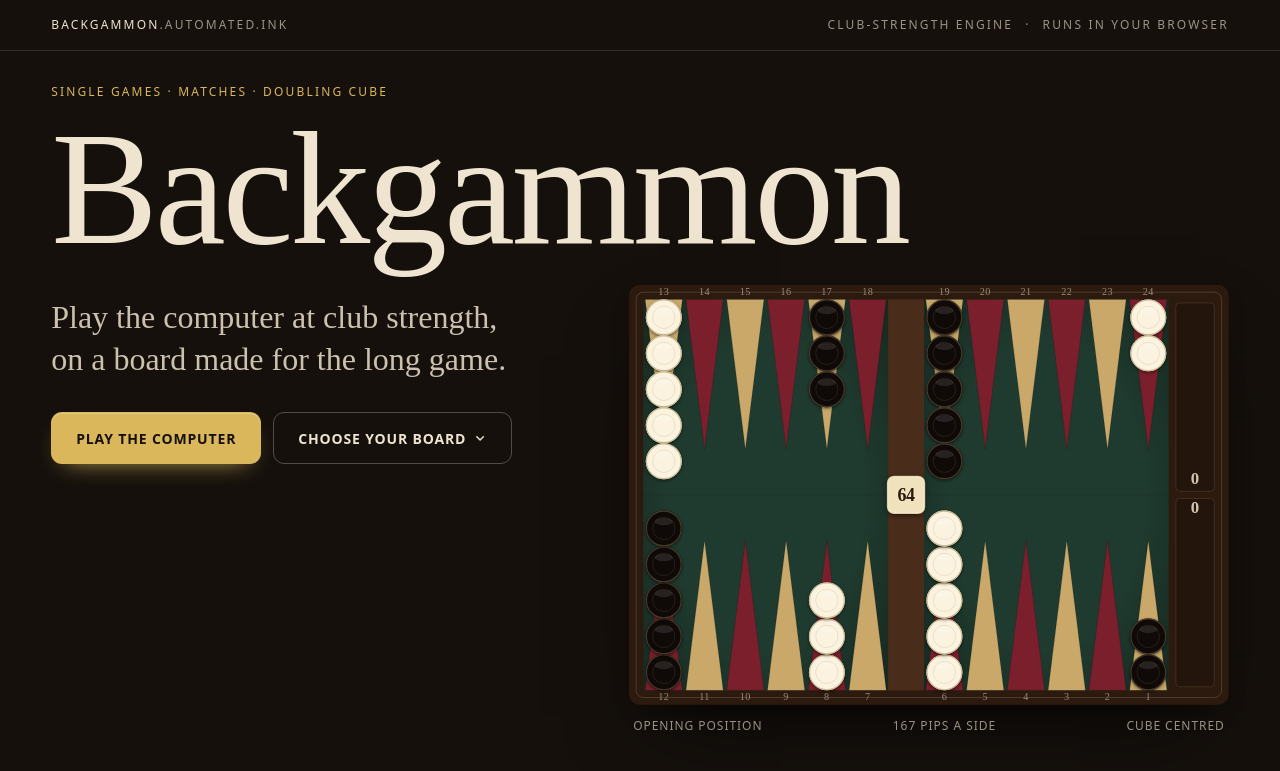
Test case: <Landing> › closes the chooser again from the same toggle
The image size is (1280, 771).
Click the button "Choose your board ⌄": (392, 438) [273,412,512,464]
(page scrolled)
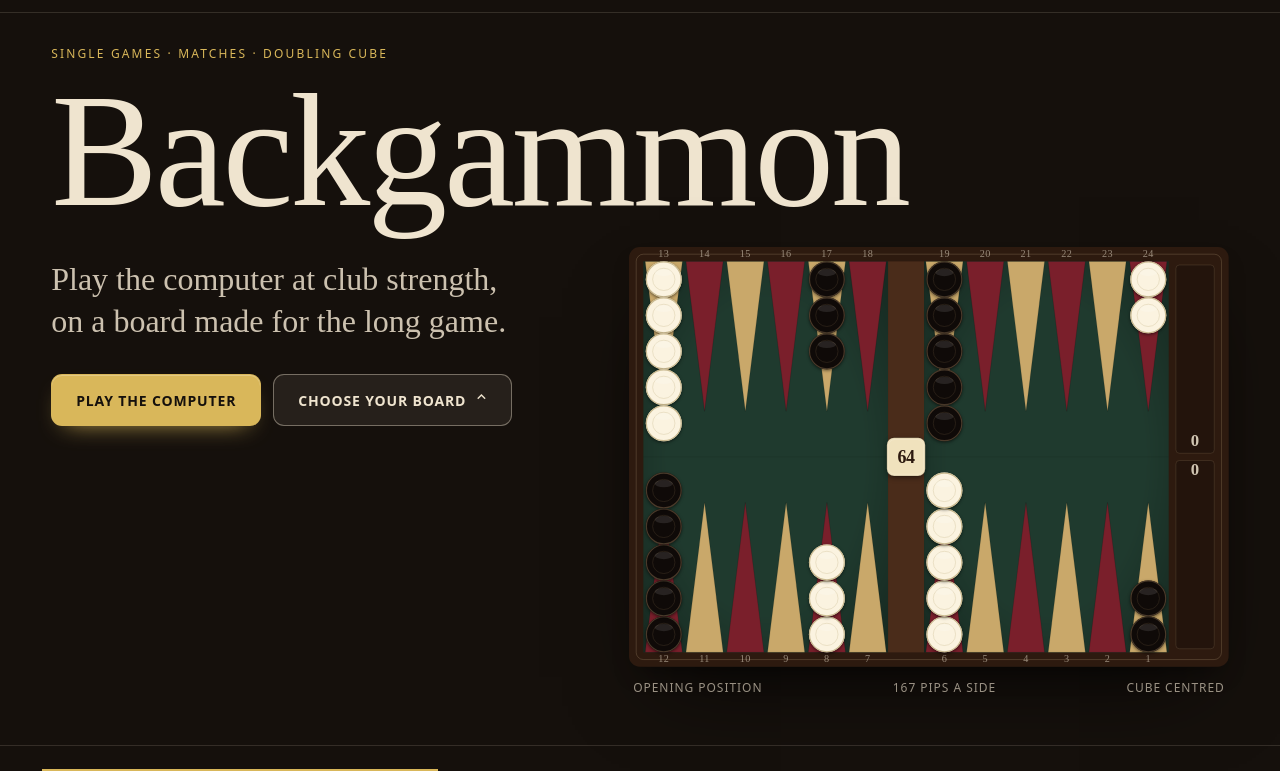
Click the button "Choose your board ⌄": (392, 400) [273,374,512,426]
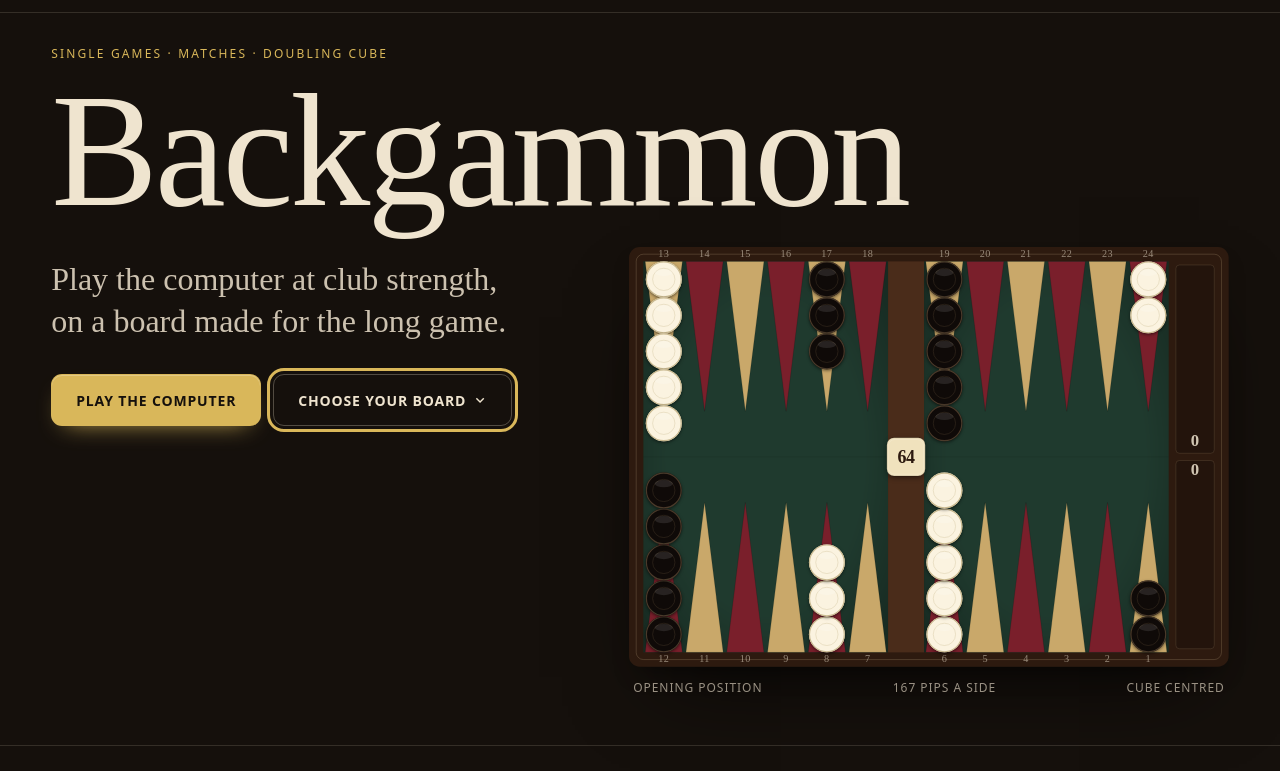
Check: the button "Choose your board ⌄" is collapsed, box [273,374,512,426]
